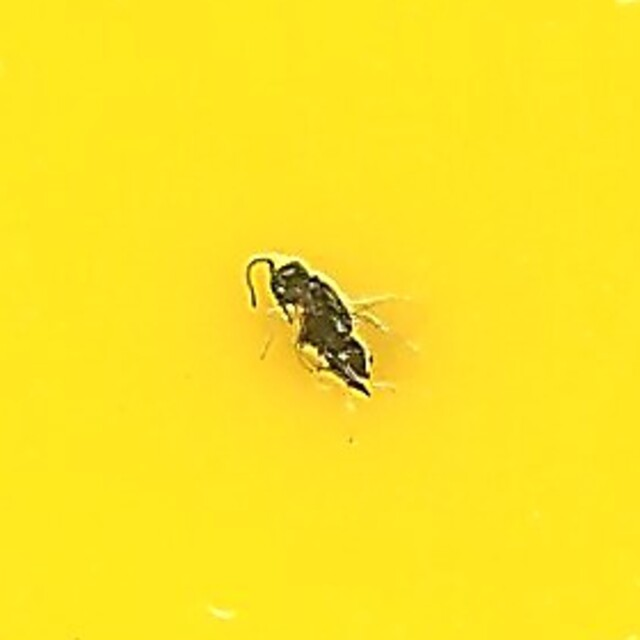Brachycera: (229, 235, 411, 405)
